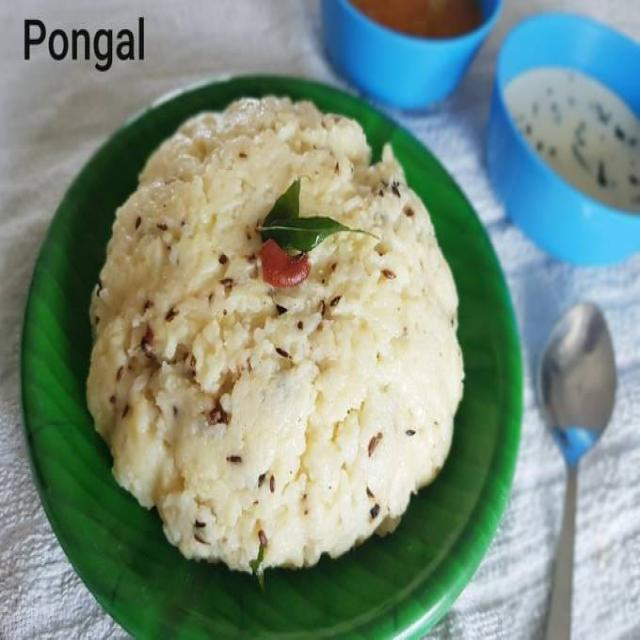khara pongal: (75, 84, 471, 607)
